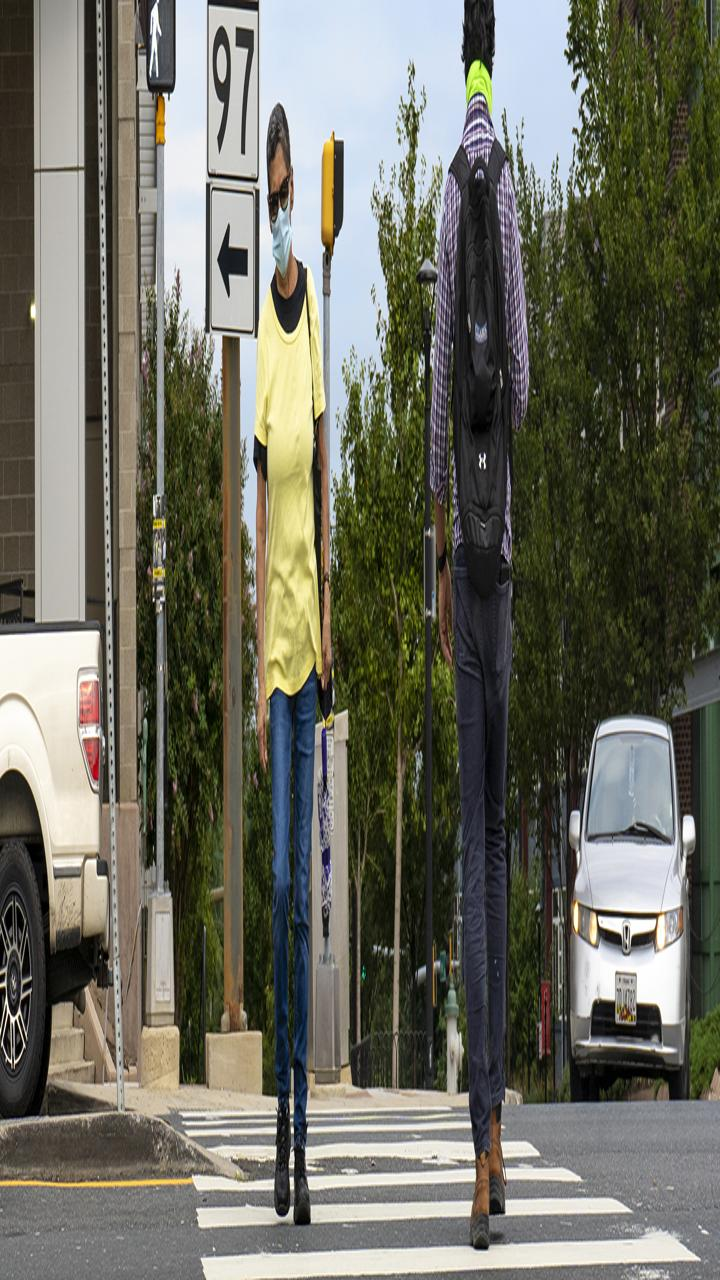Traffic sign: (200, 183, 268, 341)
pedestrian: (382, 1, 526, 1261), (251, 117, 347, 1239)
vehicle: (546, 712, 702, 1120)
